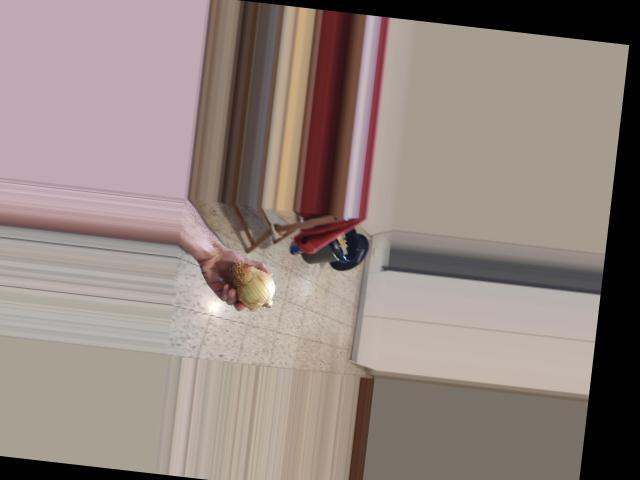onion: (228, 260, 278, 310)
